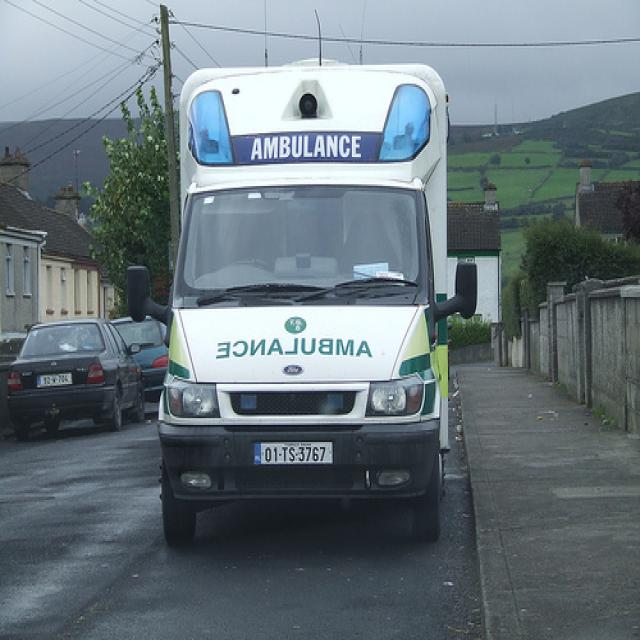emergency-vehicle: (159, 137, 444, 529)
